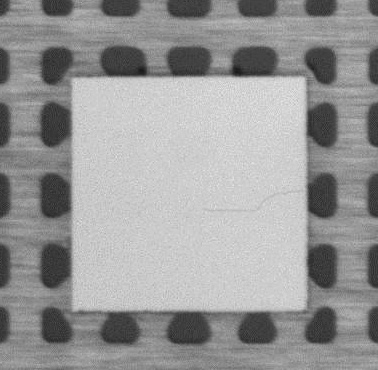DIE_CRACK: (202, 188, 301, 213)
